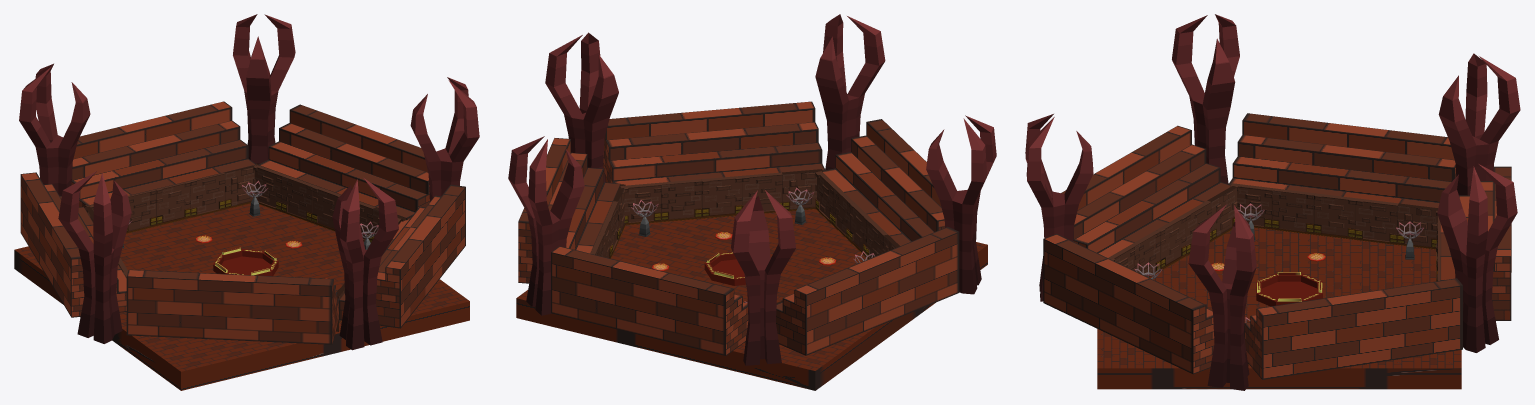
File: Arena_Lv2.fbx
3 views of the same model, side by side, from view 1: azimuth 30°, elevation 25°; view 2: azimuth 150°, elevation 25°; view 3: azimuth 270°, elevation 25° (orthographic). The views are drawn at different scales.
Visible parts, largest first — view 1: Cube.007, Cube.019, Cube.018, Cube.021, Cube.020, Cube.023, Cube.024, Cube.016, Cube.026, Cube.027, Cube.025, Cylinder.003 (+8 smaller); view 2: Cube.007, Cube.020, Cube.018, Cube.016, Cube.019, Cube.027, Cube.026, Cube.025, Cube.024, Cube.023, Cube.021, Wall04.007 (+10 smaller); view 3: Cube.007, Cube.021, Cube.016, Cube.020, Cube.019, Cube.026, Cube.025, Cube.027, Cube.023, Cube.024, Cube.018, Cylinder.003 (+9 smaller).
Part boxes in pixels (x1,y1,x2,y2): Cube.007: (14, 203, 469, 390); Cube.019: (126, 269, 339, 344); Cube.018: (71, 101, 256, 207); Cube.021: (258, 104, 429, 220); Cube.020: (339, 184, 465, 328); Cube.023: (58, 171, 131, 343); Cube.024: (332, 178, 398, 350); Cube.016: (20, 172, 126, 317); Cube.026: (233, 14, 295, 164); Cube.027: (19, 63, 90, 195); Cube.025: (410, 77, 479, 201); Cylinder.003: (213, 247, 278, 276); Cube.007: (516, 209, 987, 390); Cube.020: (603, 101, 825, 185); Cube.018: (551, 246, 748, 355); Cube.016: (776, 226, 959, 355); Cube.019: (823, 119, 944, 245); Cube.027: (731, 190, 795, 365); Cube.026: (508, 136, 584, 315); Cube.025: (545, 32, 618, 182); Cube.024: (815, 14, 885, 169); Cube.023: (926, 115, 996, 294); Cube.021: (518, 138, 620, 283); Wall04.007: (661, 179, 702, 221); Cube.007: (1097, 227, 1461, 389); Cube.021: (1244, 278, 1462, 379); Cube.016: (1228, 113, 1456, 207); Cube.020: (1043, 234, 1214, 374); Cube.019: (1061, 125, 1230, 257); Cube.026: (1437, 164, 1517, 352); Cube.025: (1188, 204, 1256, 390); Cube.027: (1438, 53, 1520, 195); Cube.023: (1172, 14, 1239, 184); Cube.024: (1025, 114, 1093, 301); Cube.018: (1440, 166, 1511, 320); Cylinder.003: (1256, 272, 1322, 306).
Size of the model in its own units: 4753 by 2054 by 4487.
Materials: 12 (11 with a texture image).
